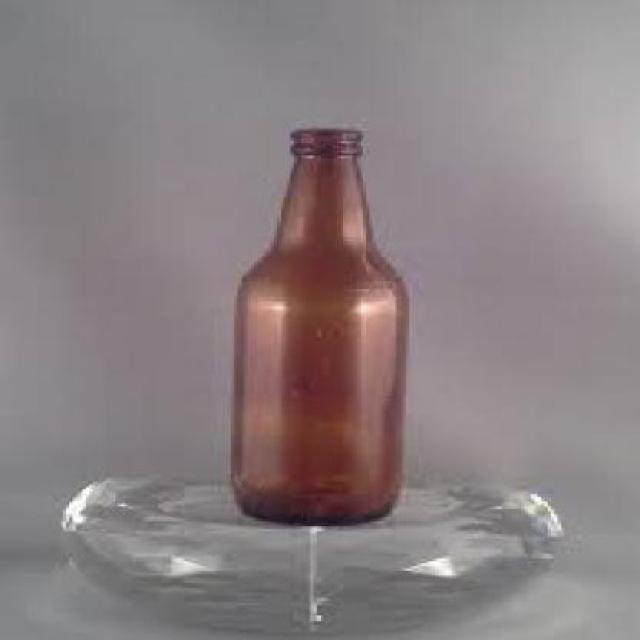GLASS: (56, 474, 561, 638), (228, 126, 403, 520)
